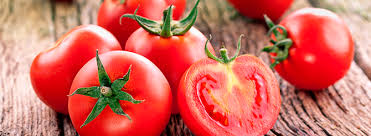milho: (29, 11, 357, 131)
